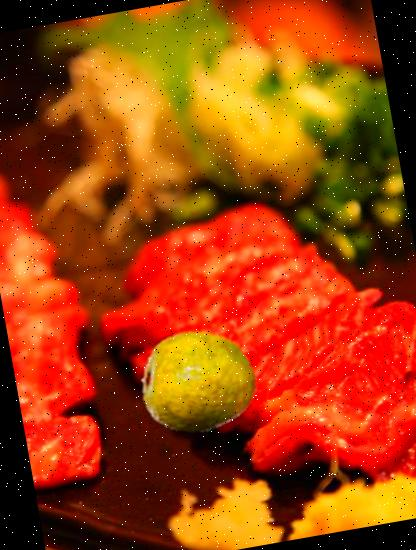Guava: (131, 314, 267, 450)
